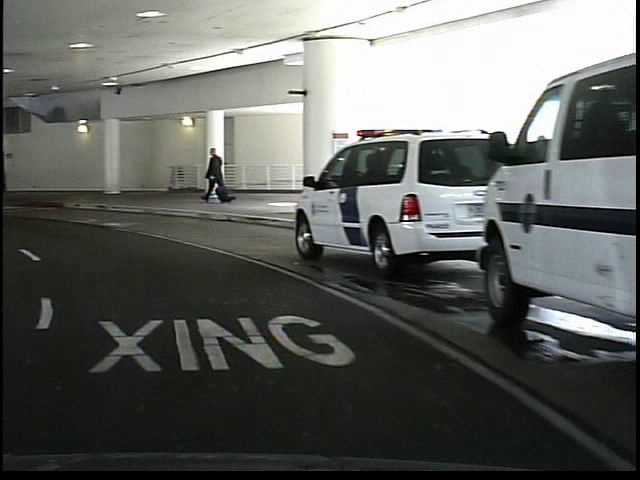person: (199, 144, 224, 203)
